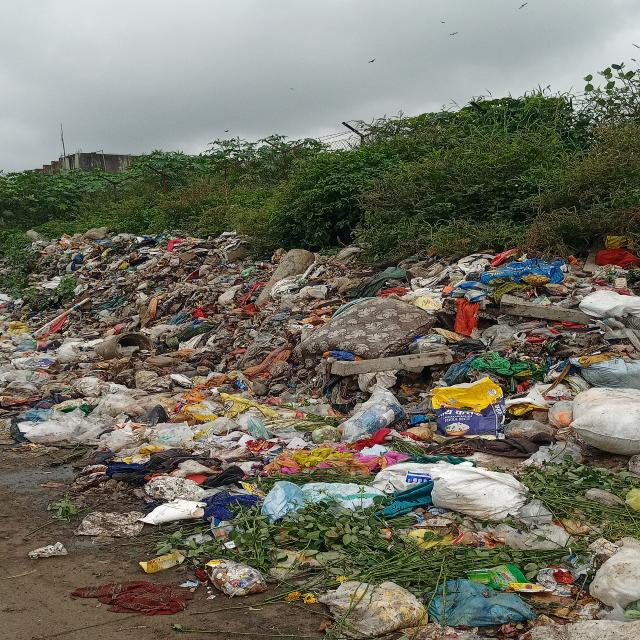garbage: (4, 227, 640, 635)
